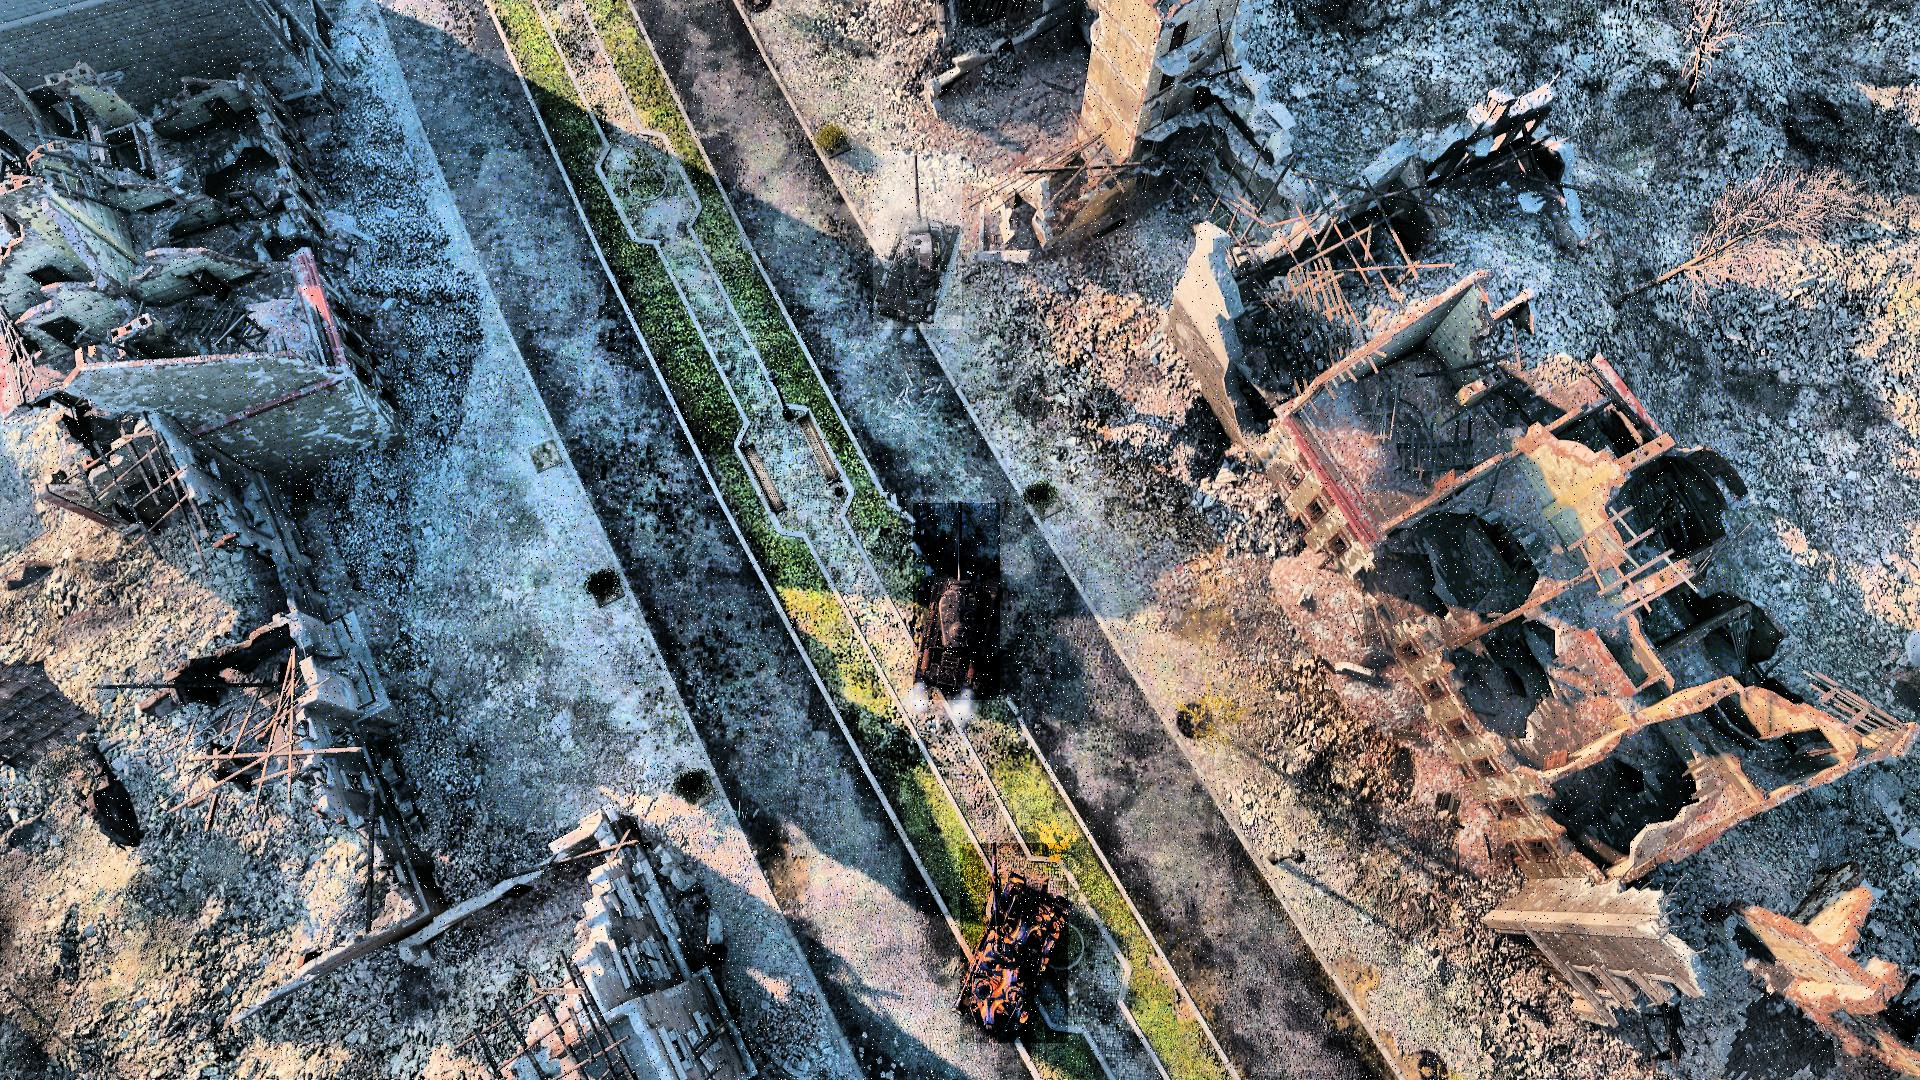military-vehicle: (960, 844, 1068, 1043), (914, 504, 1000, 700), (873, 152, 961, 330)
